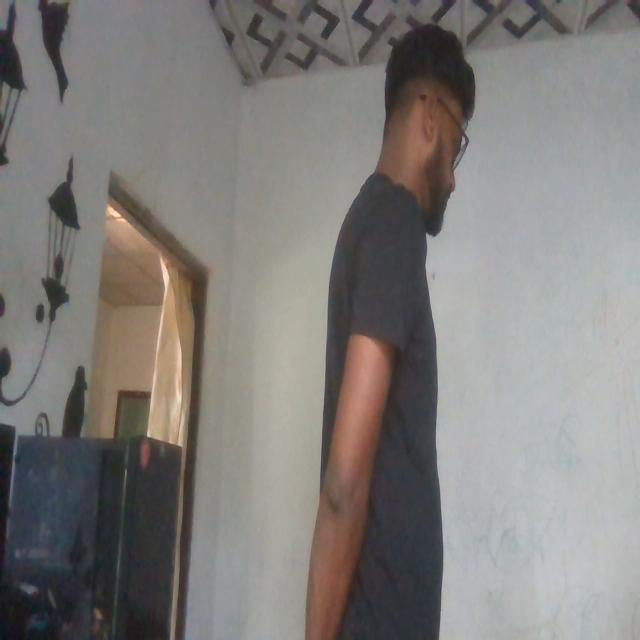Person: (309, 34, 494, 636)
